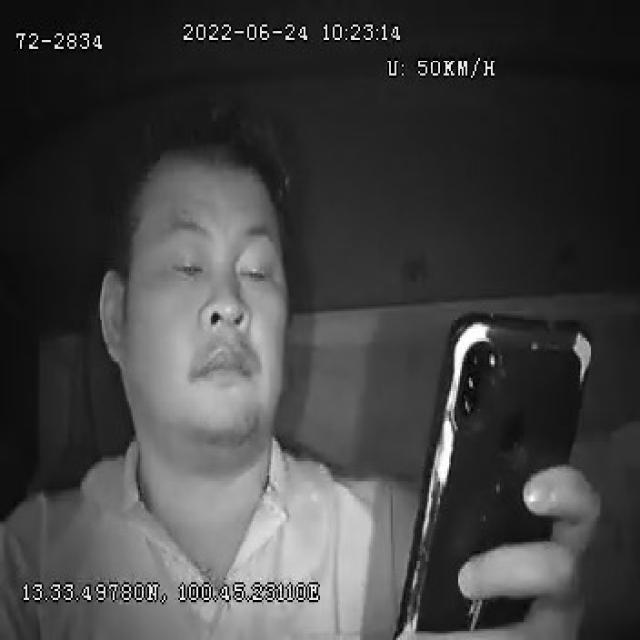phone: (395, 309, 594, 640)
